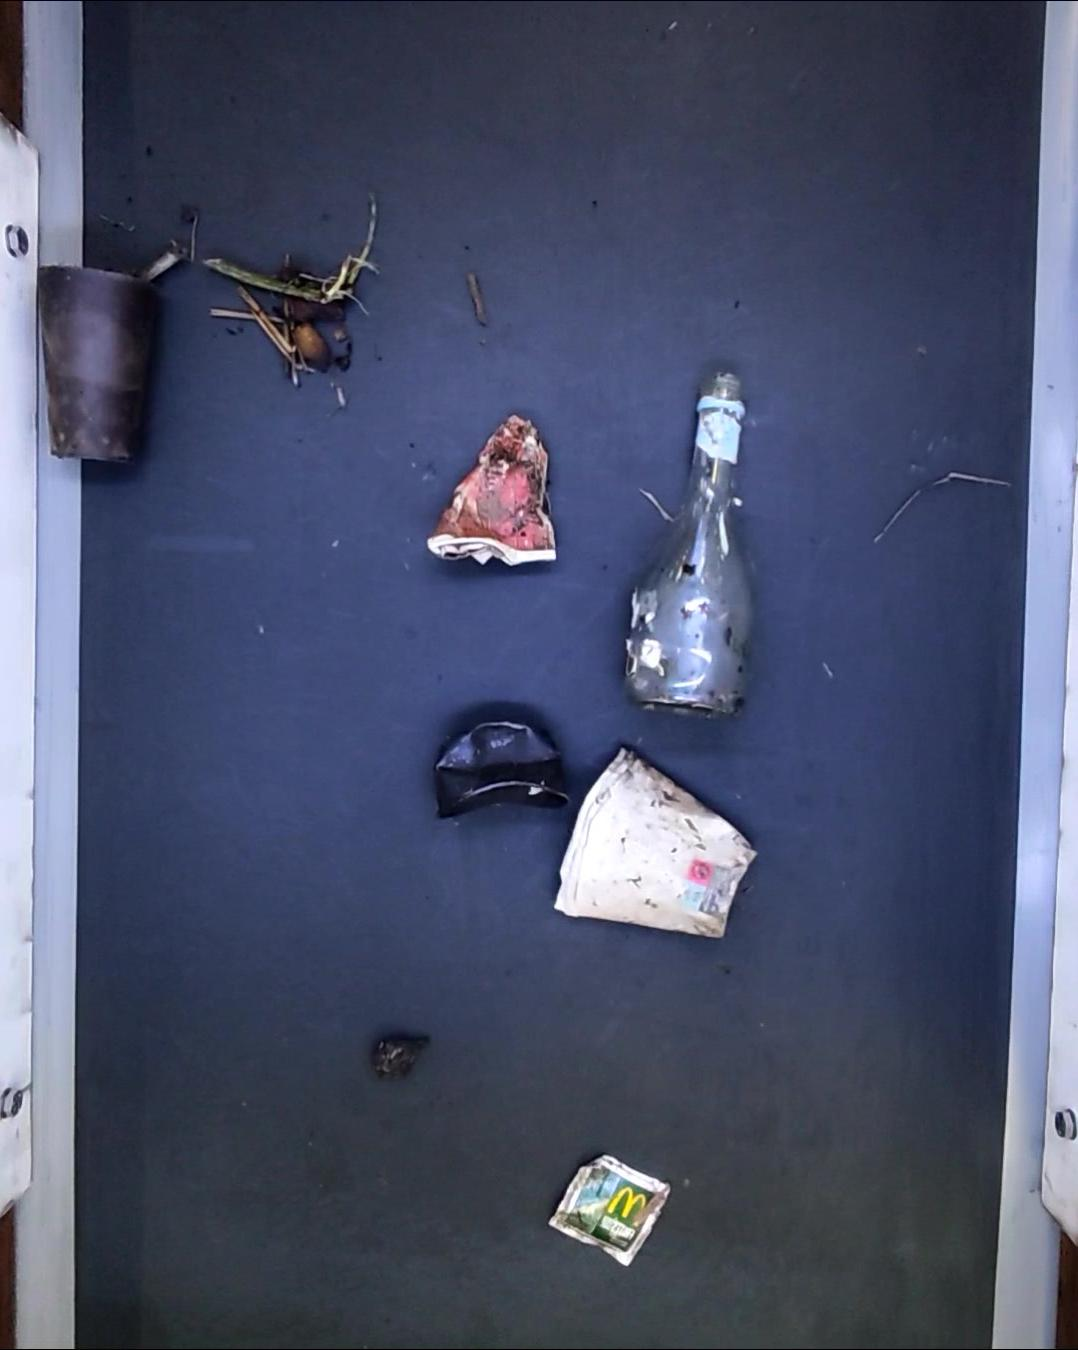Voedselverpakkingen: (549, 1156, 669, 1267)
